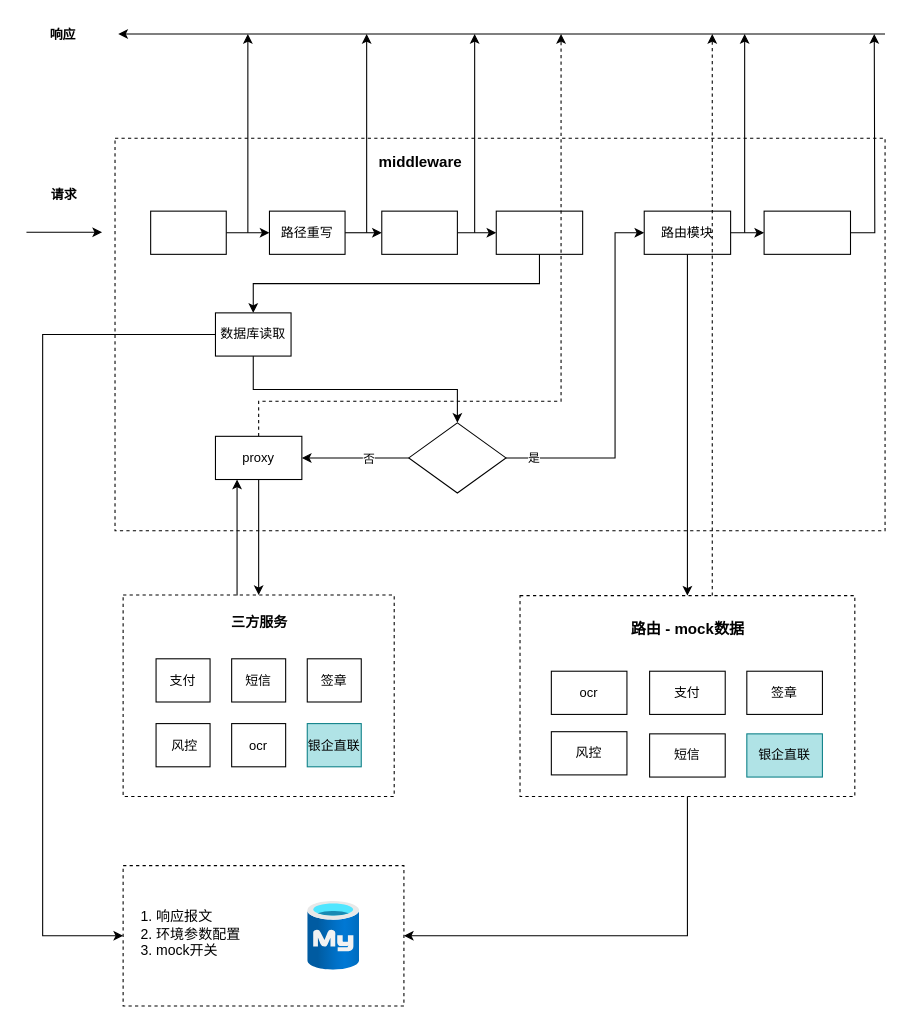
Image size: 913x1025. Some labels were removed from this diagram. The shapes that lost their labels are listed below. From the top down, each one's centre as x and y in pixels, then its label:
At (x=188, y=232): "日志打印".
At (x=419, y=232): "超时设置".
At (x=539, y=232): "服务调用控制".
At (x=806, y=232): "错误处理".
At (x=457, y=457): "是否mock".
